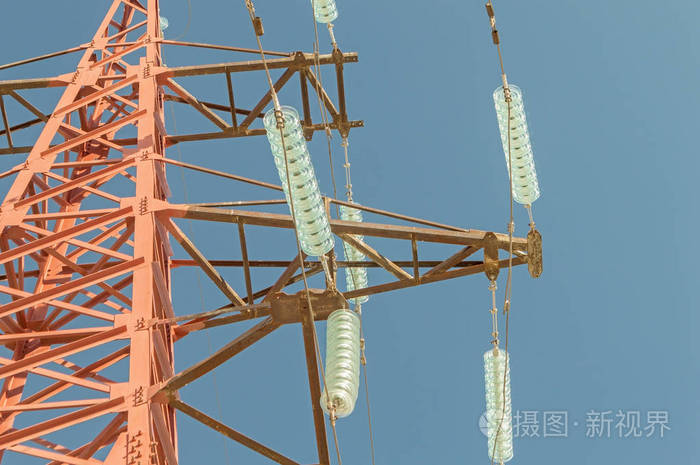insulator: (265, 105, 334, 260), (493, 83, 542, 206), (323, 307, 360, 418), (484, 347, 518, 463), (338, 201, 373, 305), (309, 1, 343, 23)
